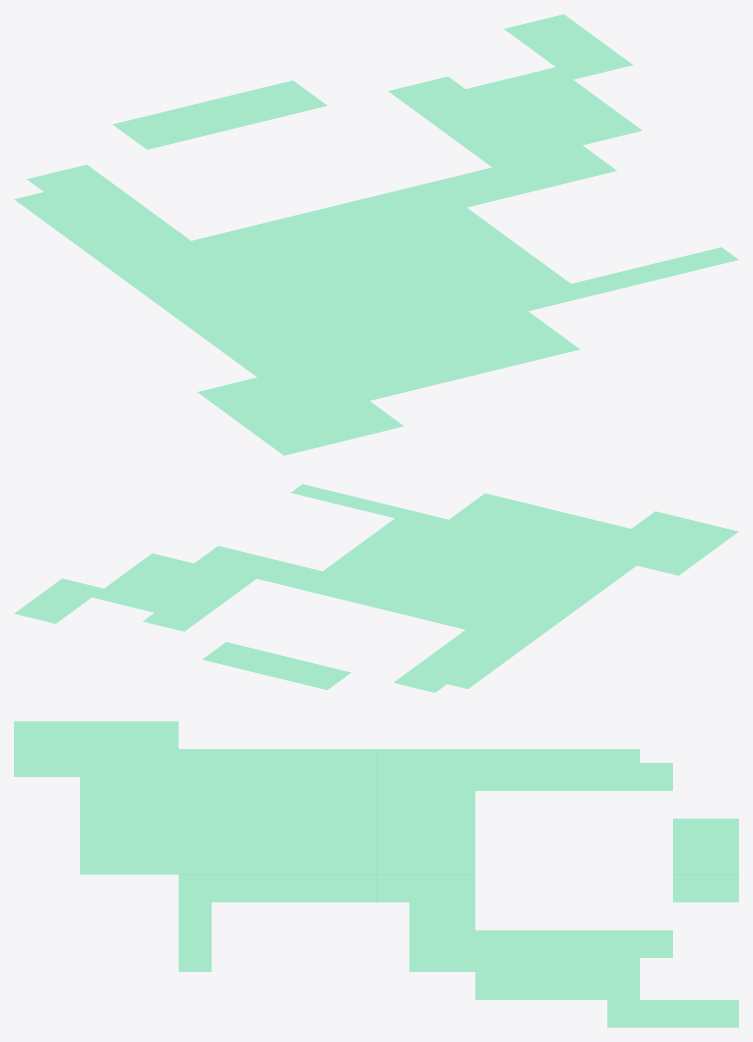
File: navmesh.glb
3 renders of one model, top to bottom at view 1: azimuth 30°, elevation 25°; view 2: azimuth 150°, elevation 25°; view 3: azimuth 270°, elevation 25°, orthographic. The views are drawn at different scales.
Parts seen in each view (by area): view 1: NAVMESH; view 2: NAVMESH; view 3: NAVMESH.
Boxes of the visible parts, x1=… form: NAVMESH: x1=14, y1=14, x2=738, y2=455; NAVMESH: x1=14, y1=484, x2=738, y2=692; NAVMESH: x1=14, y1=721, x2=738, y2=1027.
Bounding box in the file's own units: 5.5 × 0 × 5.5.
